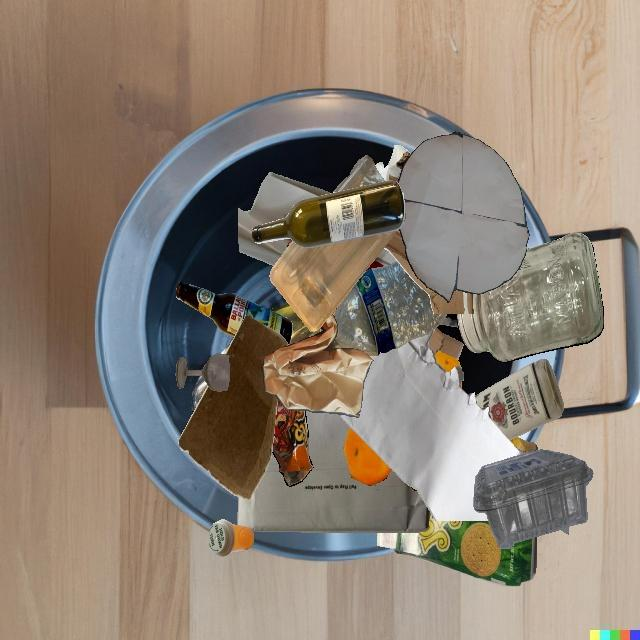biowaste: (357, 355, 460, 491)
cardboard: (178, 315, 288, 501), (377, 511, 536, 587), (383, 229, 473, 314), (375, 145, 411, 183), (429, 327, 464, 360)
glass: (457, 233, 604, 363), (252, 180, 405, 248), (176, 282, 293, 346), (475, 359, 563, 440), (203, 327, 304, 384), (175, 353, 230, 392)
paper: (340, 329, 524, 521), (238, 410, 430, 533), (398, 132, 529, 302), (283, 253, 441, 323), (238, 172, 331, 266), (291, 313, 373, 417), (263, 345, 294, 410), (374, 248, 397, 261), (440, 314, 458, 327)
plastic: (270, 230, 397, 332), (473, 449, 593, 549), (330, 261, 447, 356), (299, 158, 405, 248), (209, 519, 254, 557)
trash: (272, 398, 313, 487)
